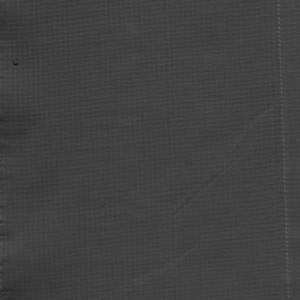Damage: (272, 1, 300, 300)
Wrinkle: (1, 1, 61, 300), (147, 128, 268, 235), (87, 230, 216, 300)
